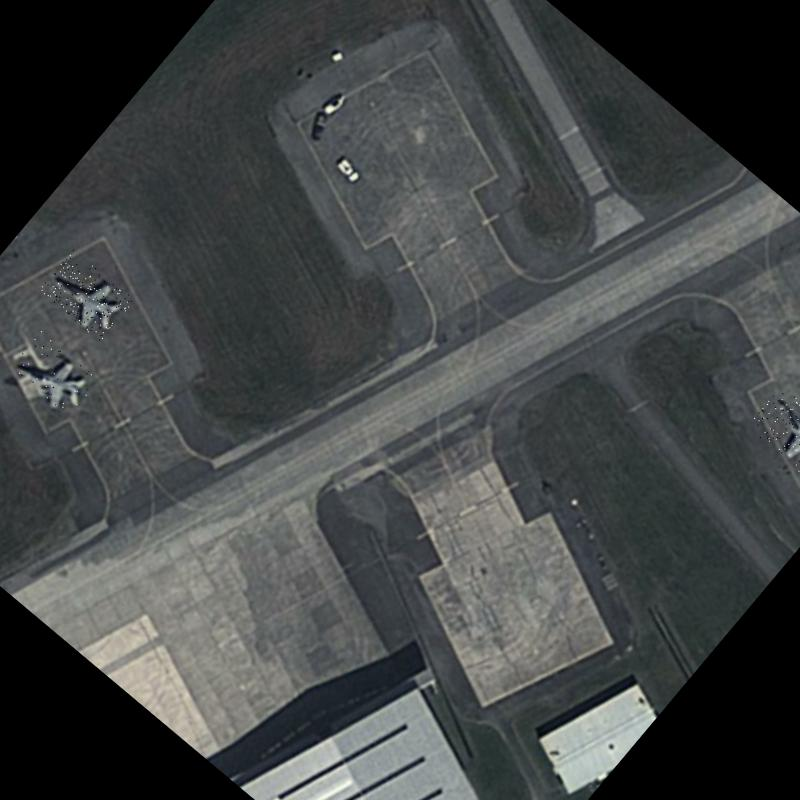A16: (37, 249, 134, 342), (5, 328, 100, 420), (745, 384, 800, 482)
